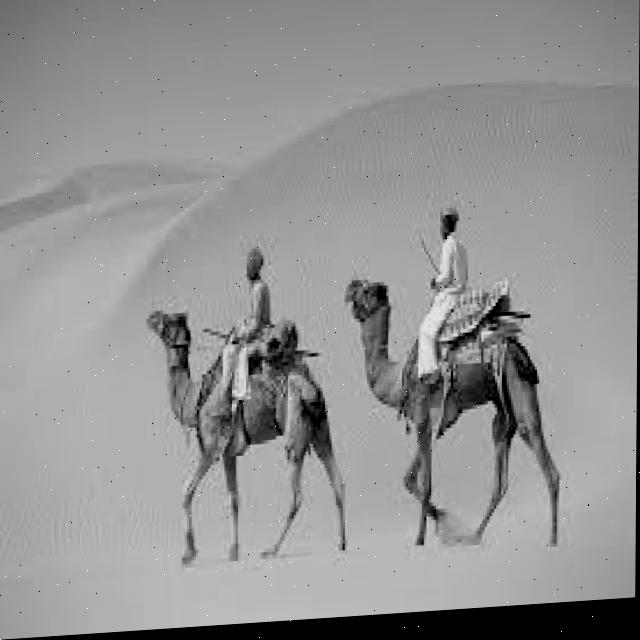Camel: (340, 259, 561, 561), (142, 295, 349, 567)
